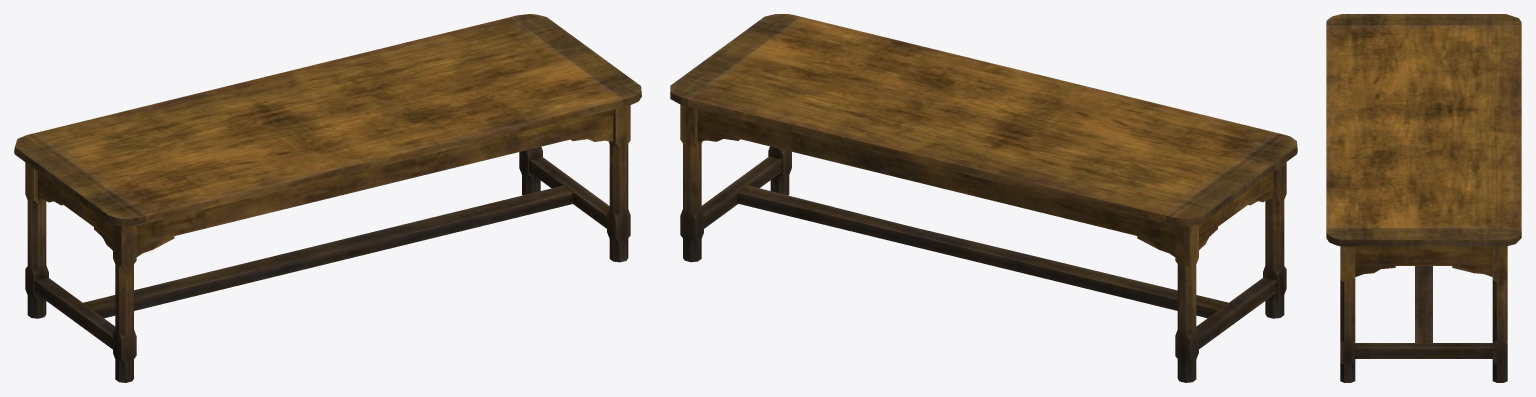
File: WoodenTable_01.glb
3 views of the same model, side by side, from view 1: azimuth 30°, elevation 25°; view 2: azimuth 150°, elevation 25°; view 3: azimuth 270°, elevation 25° (orthographic). The views are drawn at different scales.
Visible parts, largest first — view 1: WoodenTable_01; view 2: WoodenTable_01; view 3: WoodenTable_01.
Part boxes in pixels (x1,y1,x2,y2): WoodenTable_01: (14,14,641,382); WoodenTable_01: (670,14,1297,382); WoodenTable_01: (1326,14,1521,382).
Bounding box in the file's own units: 1.79 × 0.5488 × 0.6572.
1 material, 1 textured.
